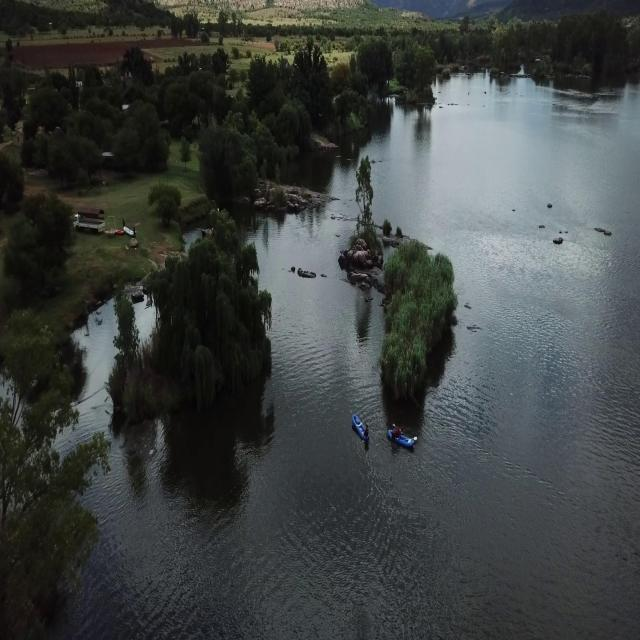kayak: (384, 419, 418, 454), (350, 412, 371, 444)
